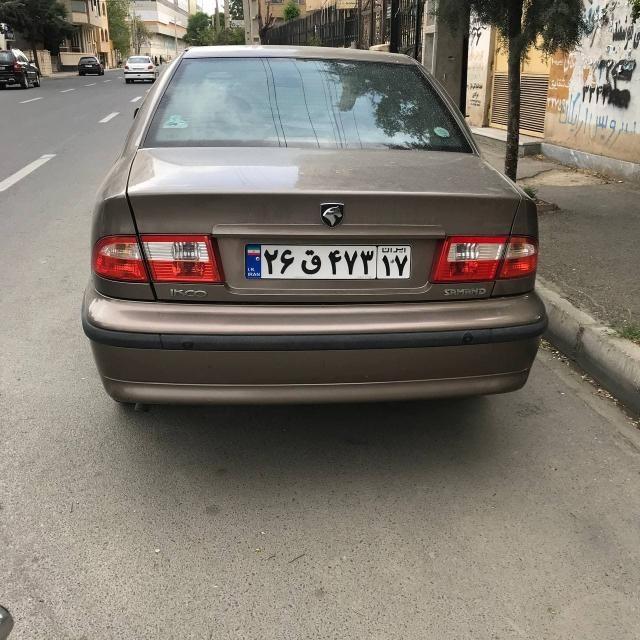Plates: (245, 244, 411, 280)
